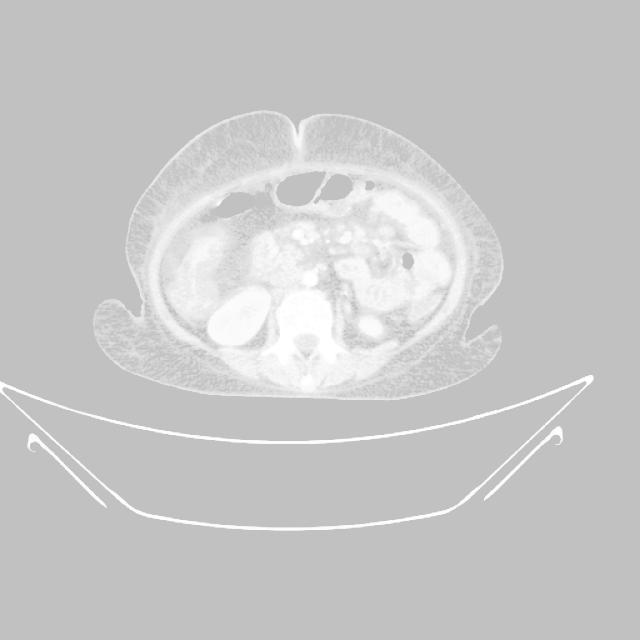NORMAL: (90, 105, 507, 408)
